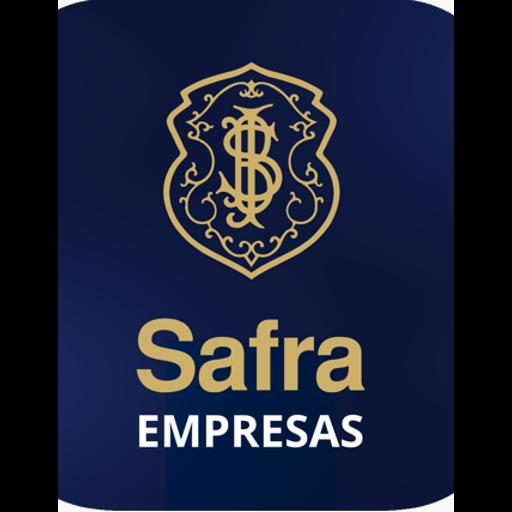Banco Safra: (58, 0, 454, 512)
